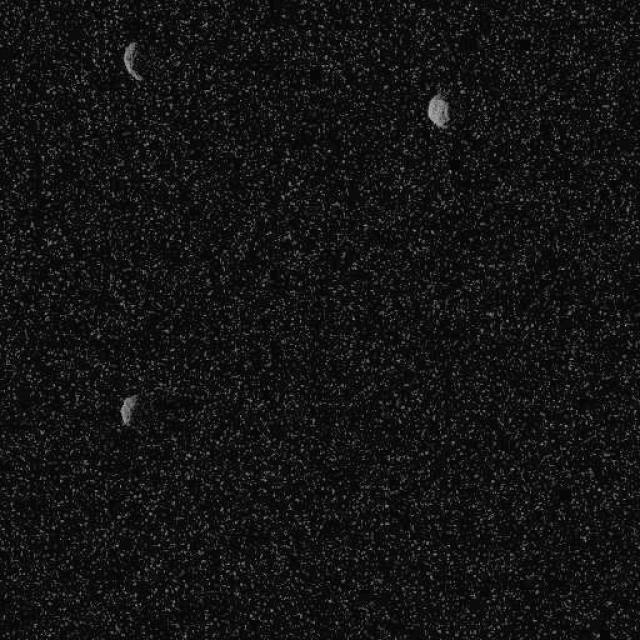D2: (425, 91, 450, 129), (121, 40, 142, 81), (119, 392, 139, 427)
